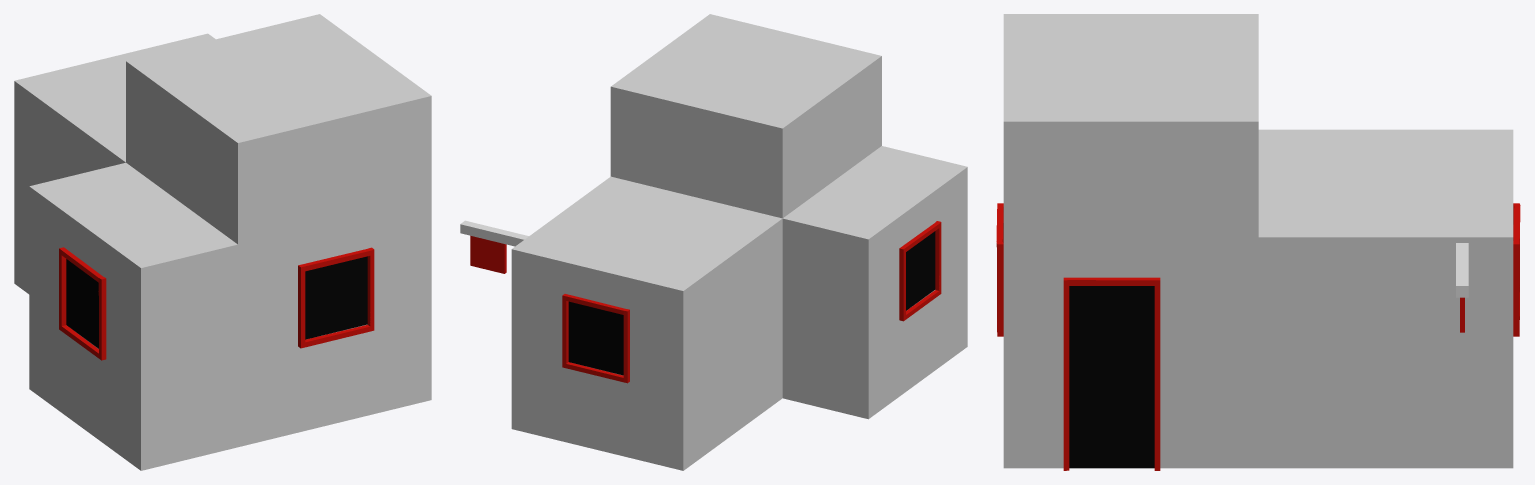
Rendered from shop.glb.
The picture shows the model from 3 angles, left to right: view 1: azimuth 30°, elevation 25°; view 2: azimuth 150°, elevation 25°; view 3: azimuth 270°, elevation 25°; orthographic projection. The views are drawn at different scales.
Parts seen in each view (by area): view 1: Cube.001, Cube, Cube.004, Cube.006, Cube.007; view 2: Cube, Cube.001, Cube.004, Cube.005, Cube.007, Cube.003, Cube.002; view 3: Cube, Cube.001, Cube.008, Cube.006, Cube.005, Cube.002.
Boxes of the visible parts, x1=… form: Cube.001: x1=126, y1=14, x2=431, y2=244; Cube: x1=14, y1=33, x2=431, y2=447; Cube.004: x1=29, y1=162, x2=237, y2=470; Cube.006: x1=298, y1=247, x2=374, y2=348; Cube.007: x1=59, y1=247, x2=106, y2=360; Cube: x1=511, y1=176, x2=782, y2=470; Cube.001: x1=610, y1=14, x2=881, y2=218; Cube.004: x1=782, y1=146, x2=967, y2=419; Cube.005: x1=562, y1=294, x2=629, y2=383; Cube.007: x1=899, y1=221, x2=941, y2=321; Cube.003: x1=470, y1=235, x2=506, y2=273; Cube.002: x1=460, y1=220, x2=528, y2=246; Cube: x1=1003, y1=129, x2=1513, y2=468; Cube.001: x1=1003, y1=14, x2=1258, y2=237; Cube.008: x1=1063, y1=277, x2=1160, y2=470; Cube.006: x1=996, y1=203, x2=1003, y2=336; Cube.005: x1=1513, y1=203, x2=1520, y2=336; Cube.002: x1=1456, y1=243, x2=1468, y2=297.
Size of the model in its own units: 3.86 by 3 by 4.11.
